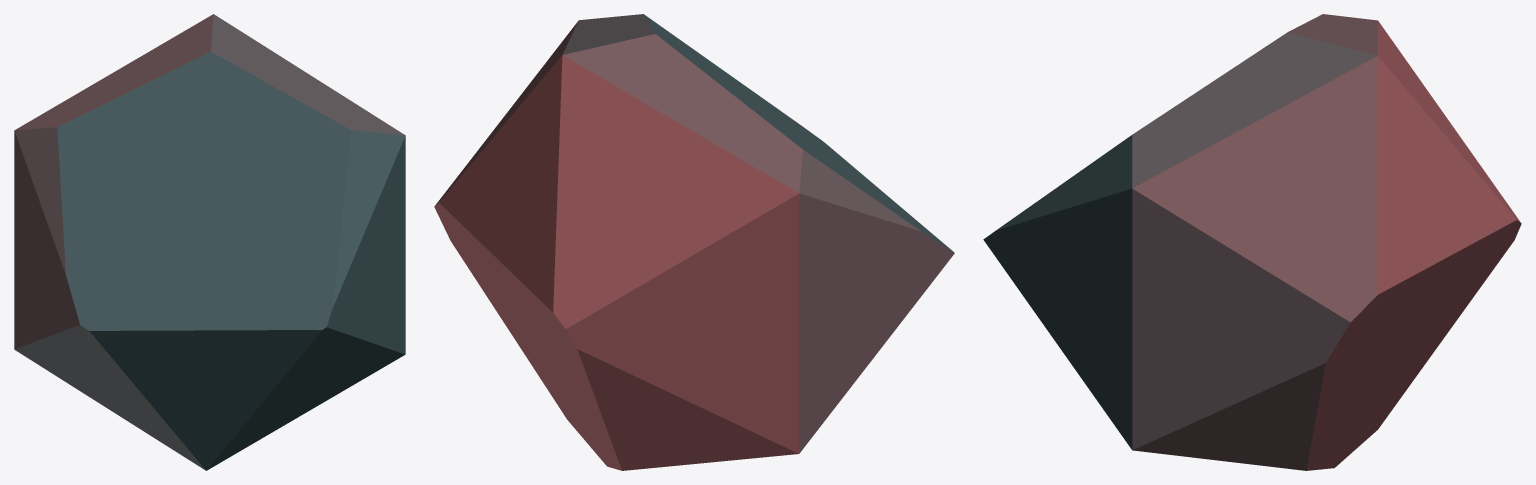
File: gemstone_anim_10_10_neg10.glb
3 views of the same model, side by side, from view 1: azimuth 30°, elevation 25°; view 2: azimuth 150°, elevation 25°; view 3: azimuth 270°, elevation 25° (orthographic). The views are drawn at different scales.
Visible parts, largest first — view 1: gemstone_anim_10_10_neg10; view 2: gemstone_anim_10_10_neg10; view 3: gemstone_anim_10_10_neg10.
Part boxes in pixels (x1,y1,x2,y2): gemstone_anim_10_10_neg10: [14, 14, 405, 470]; gemstone_anim_10_10_neg10: [434, 14, 954, 470]; gemstone_anim_10_10_neg10: [983, 14, 1521, 470].
Bounding box in the file's own units: 1865 × 1801 × 2074.
